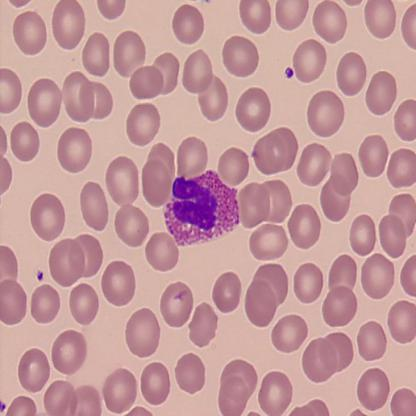Eosinophil: (166, 167, 241, 246)
